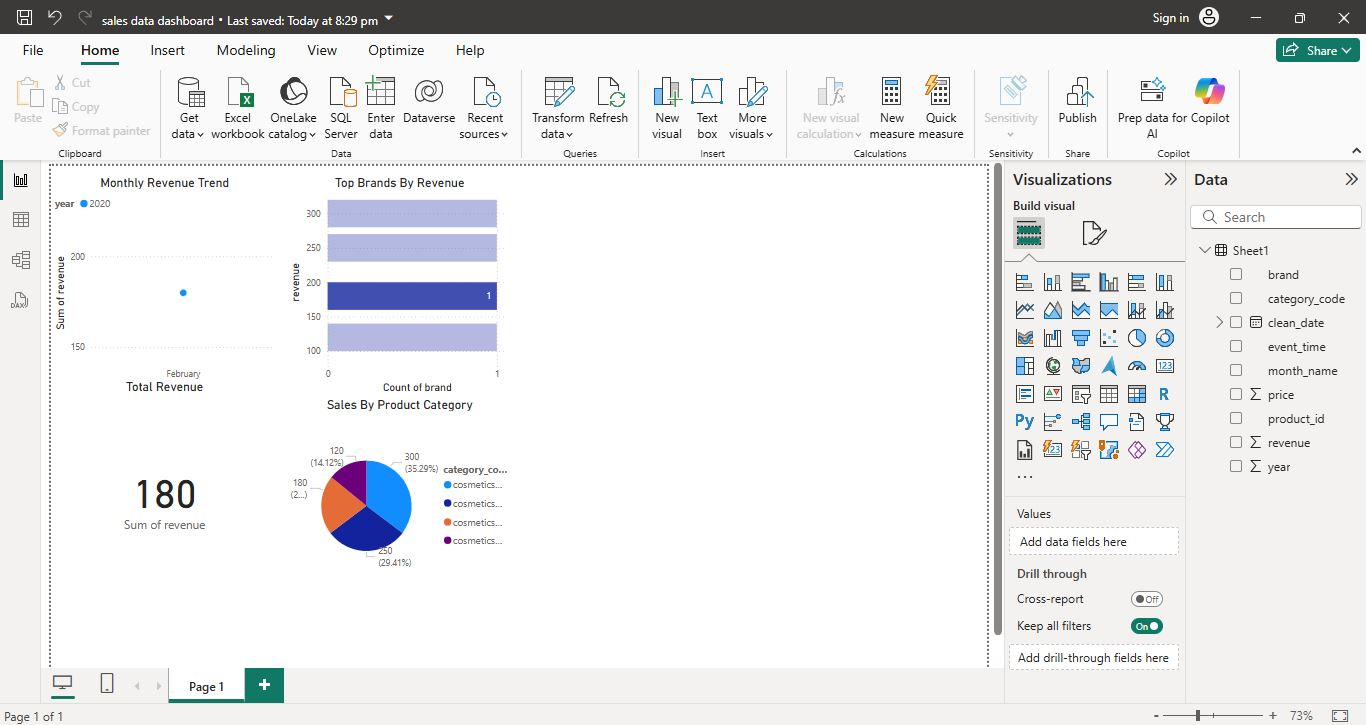

The dashboard page shown, as its layout file describes it:
{"tool":"powerbi","page":{"name":"Page 1","canvas":[1280,720],"ordinal":0},"visuals":[{"type":"lineChart","title":"Monthly Revenue Trend","fields":{"Category":["Sheet1.month_name"],"Y":["Sum(Sheet1.revenue)"],"Series":["Sheet1.year"]},"box":[0,11.8,310.8,304],"z":0},{"type":"card","title":"Total Revenue","fields":{"Values":["Sum(Sheet1.revenue)"]},"box":[0,290.6,310.8,304],"z":1},{"type":"clusteredBarChart","title":"Top Brands By Revenue","fields":{"Y":["CountNonNull(Sheet1.brand)"],"Category":["Sheet1.revenue"]},"box":[321,12,311,304],"z":2},{"type":"pieChart","title":"Sales By Product Category","fields":{"Category":["Sheet1.category_code"],"Y":["Sum(Sheet1.revenue)"]},"box":[321,316,311,279],"z":3}]}

Visuals, with their boxes on the page's 1280x720 design canvas (x1, y1, x2, y2). These are canvas units, not pixel positions in the 1366x725 screenshot, which may show the page scaled, cropped or inside an application window:
"Monthly Revenue Trend" lineChart: x1=0, y1=12, x2=311, y2=316
"Total Revenue" card: x1=0, y1=291, x2=311, y2=595
"Top Brands By Revenue" clusteredBarChart: x1=321, y1=12, x2=632, y2=316
"Sales By Product Category" pieChart: x1=321, y1=316, x2=632, y2=595
